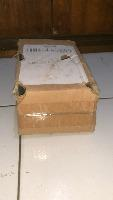damaged package: (12, 79, 27, 104), (80, 78, 99, 95), (15, 50, 25, 60)
undamaged: (11, 36, 102, 139)
